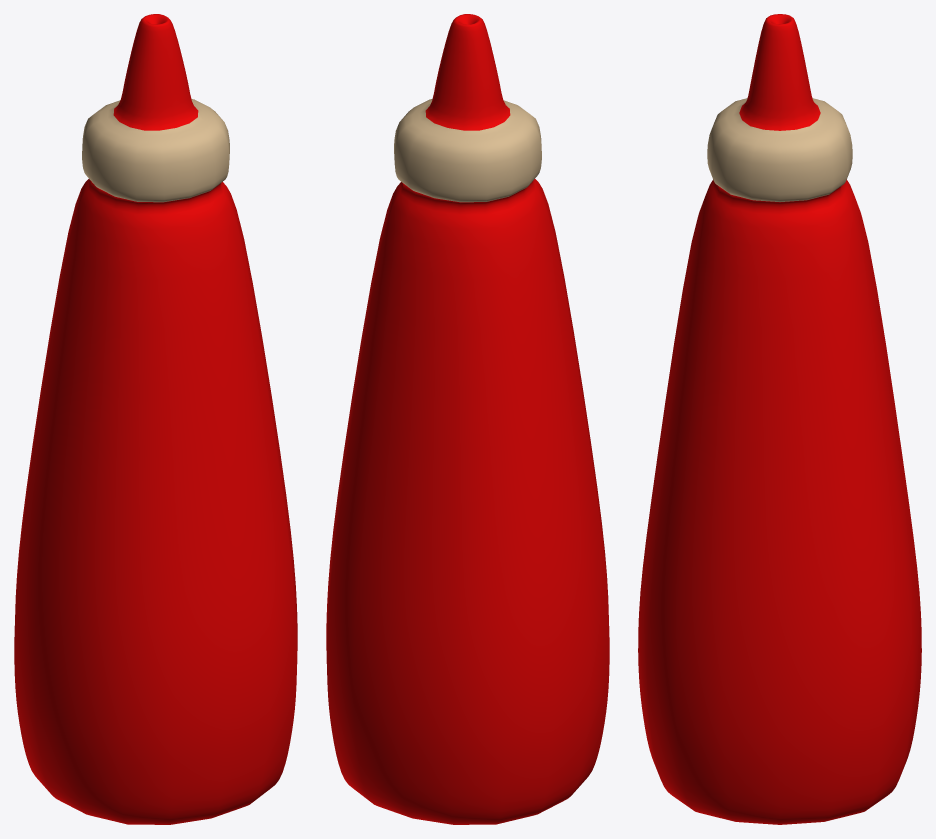
File: Sauce.fbx
The picture shows the model from 3 angles, left to right: view 1: azimuth 30°, elevation 25°; view 2: azimuth 150°, elevation 25°; view 3: azimuth 270°, elevation 25°; orthographic projection.
Visible parts, largest first — view 1: Sauce_Smooth; view 2: Sauce_Smooth; view 3: Sauce_Smooth.
Part boxes in pixels (box(x1,y1,x2,y2)): Sauce_Smooth: box(14, 14, 297, 824); Sauce_Smooth: box(326, 14, 609, 824); Sauce_Smooth: box(638, 14, 921, 824).
Bounding box in the file's own units: 1.75 × 5.25 × 1.77.
